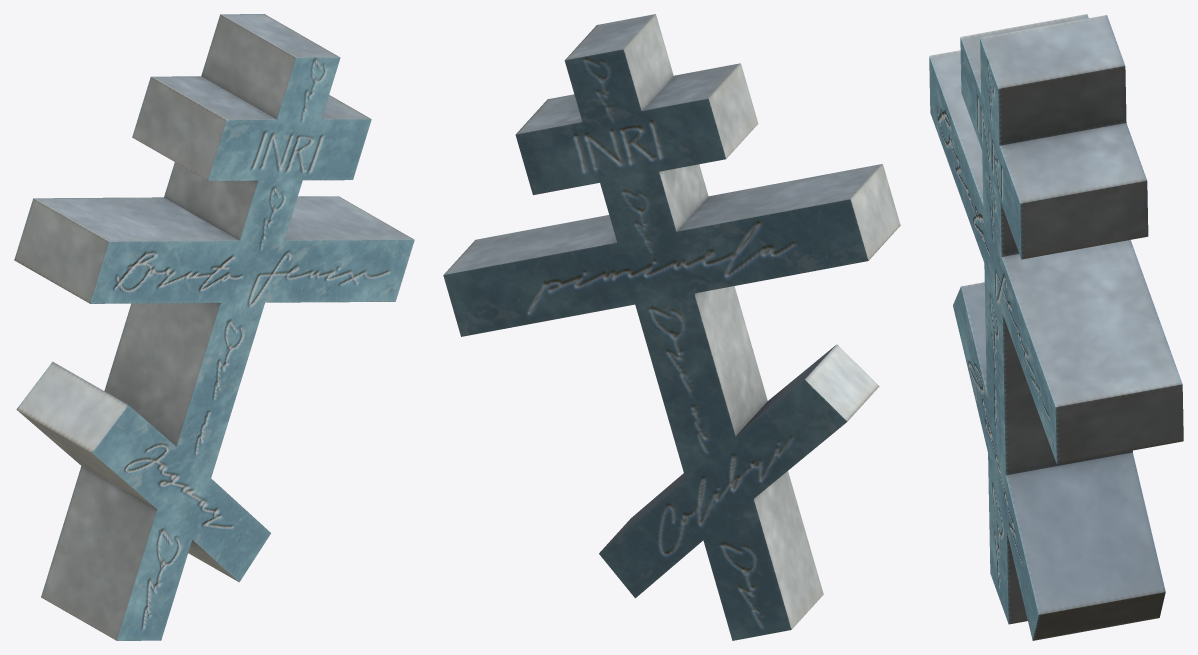
3 renders of one model, left to right at view 1: azimuth 30°, elevation 25°; view 2: azimuth 150°, elevation 25°; view 3: azimuth 270°, elevation 25°, orthographic. The views are drawn at different scales.
Parts seen in each view (by area): view 1: Cruz_Orto_Cube.011; view 2: Cruz_Orto_Cube.011; view 3: Cruz_Orto_Cube.011.
Boxes of the visible parts, x1=… form: Cruz_Orto_Cube.011: x1=14, y1=14, x2=414, y2=640; Cruz_Orto_Cube.011: x1=443, y1=14, x2=900, y2=640; Cruz_Orto_Cube.011: x1=929, y1=14, x2=1183, y2=640.
Bounding box in the file's own units: 1.97 × 2.69 × 0.9317.
